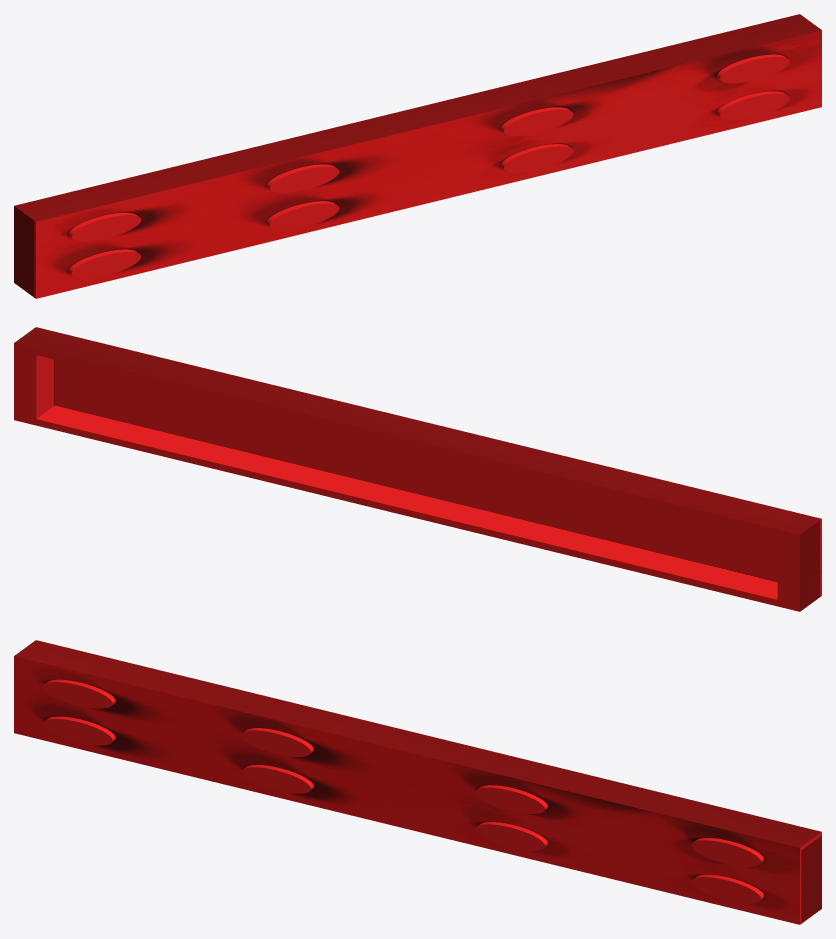
Rendered from bloc4X2X2red.obj.
3 views of the same model, one above another, from view 1: azimuth 30°, elevation 25°; view 2: azimuth 150°, elevation 25°; view 3: azimuth 330°, elevation 25° (orthographic).
Visible parts, largest first — view 1: 10596_Modular_Building_Blocks_SG_v1_iterations-2.002; view 2: 10596_Modular_Building_Blocks_SG_v1_iterations-2.002; view 3: 10596_Modular_Building_Blocks_SG_v1_iterations-2.002.
Boxes of the visible parts, x1,y1,x2,y2 form: 10596_Modular_Building_Blocks_SG_v1_iterations-2.002: (14,14,821,298); 10596_Modular_Building_Blocks_SG_v1_iterations-2.002: (14,327,821,611); 10596_Modular_Building_Blocks_SG_v1_iterations-2.002: (14,640,821,924).
Bounding box in the file's own units: 13.89 × 1.3 × 0.7741.
